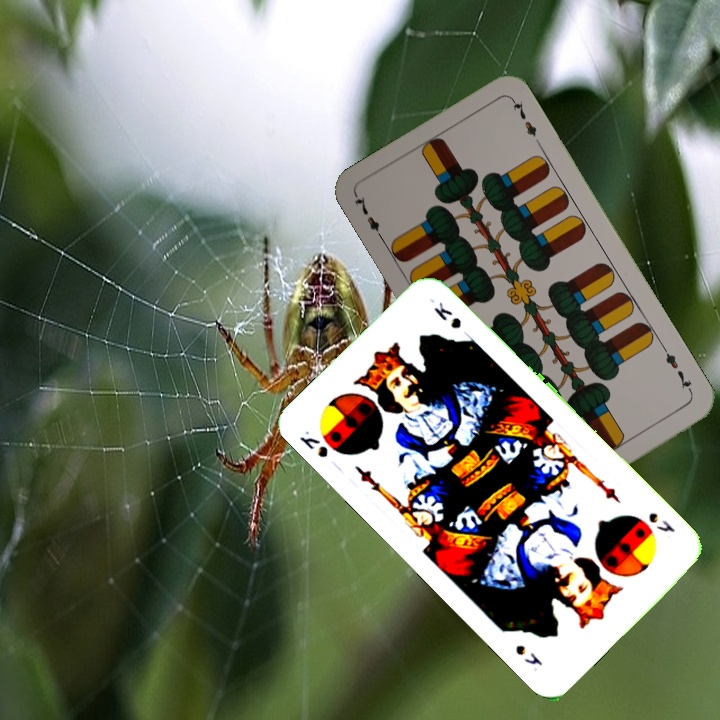E7: (350, 192, 388, 245), (659, 343, 696, 397)
SK: (295, 426, 331, 461), (644, 508, 678, 535)
